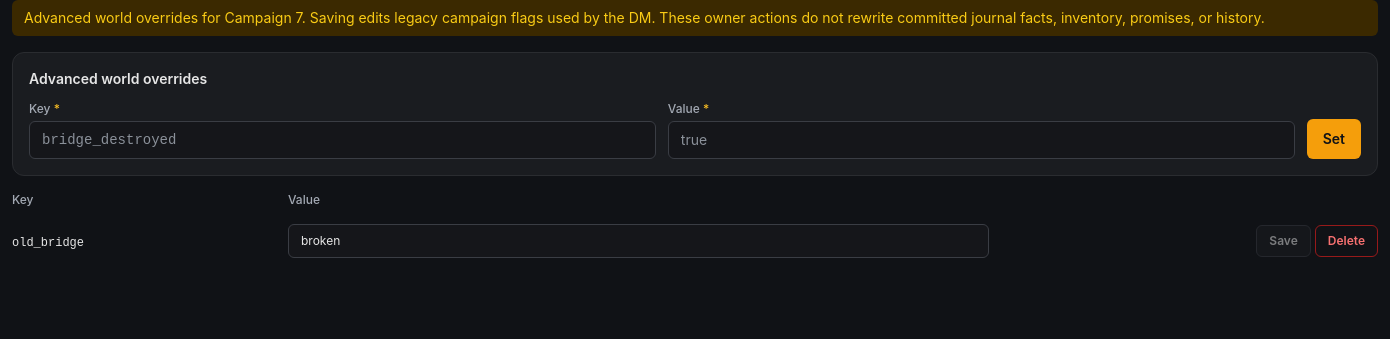
it: deletes a flag and reports success while refreshing the list
The width and height of the screenshot is (1390, 339).
Expected: the table shows "old_bridge", left=12, top=236, right=84, bottom=250
Click the button with aria-label "Delete flag old_bridge" at (1346, 241), box left=1315, top=225, right=1378, bottom=257
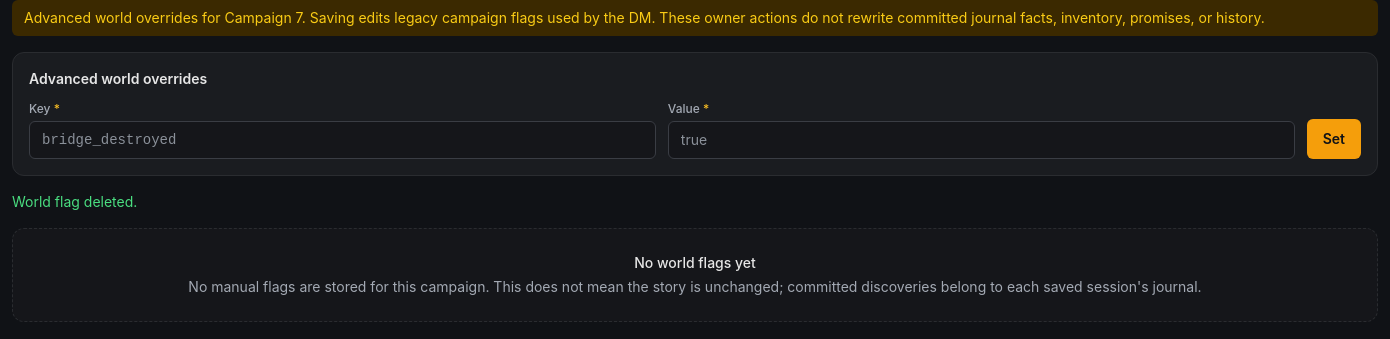
Expected: the text "World flag deleted." is shown, left=12, top=193, right=137, bottom=210
